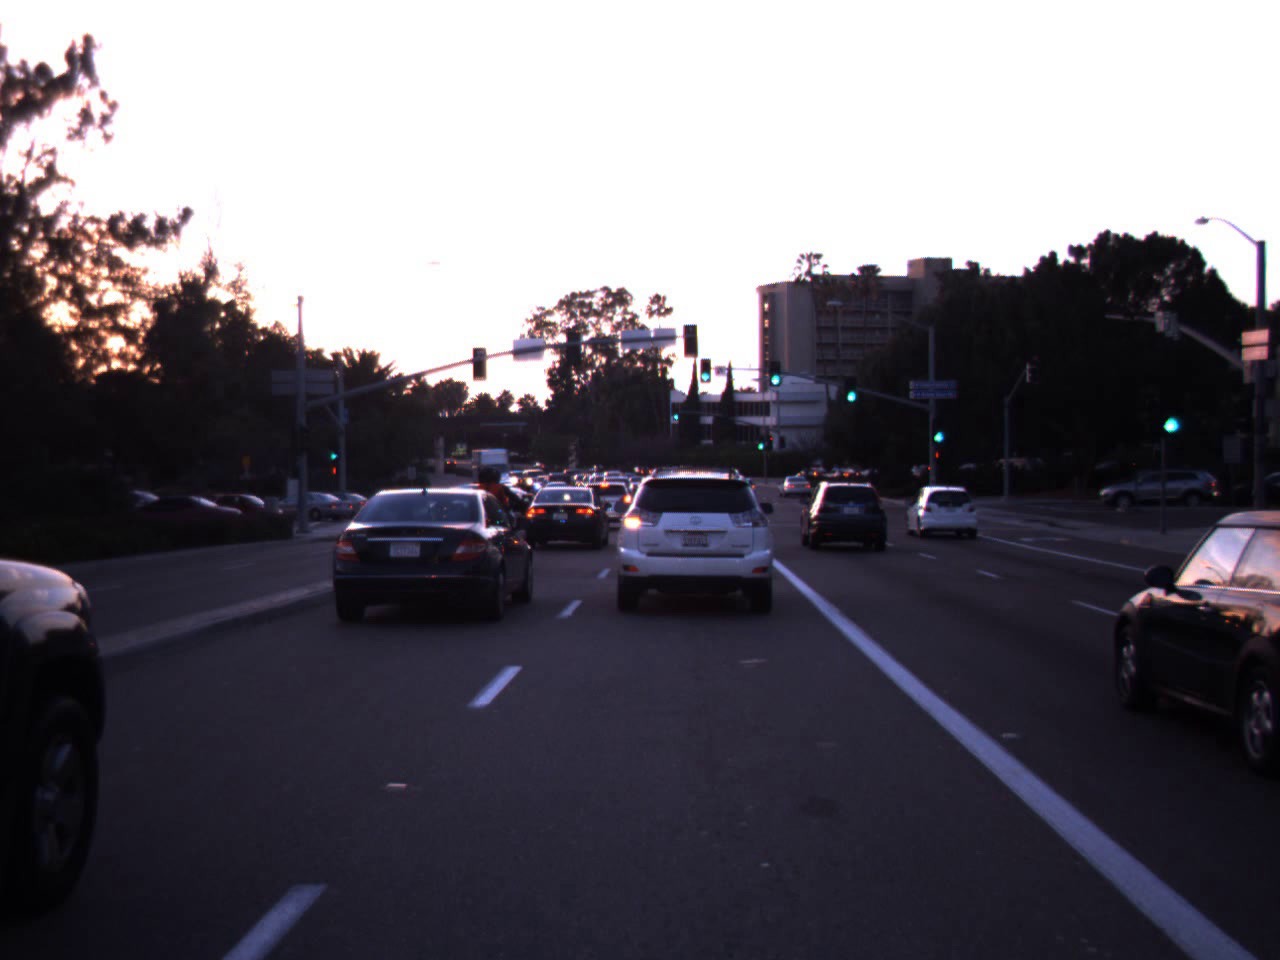go: (1150, 371, 1189, 436), (763, 340, 787, 390), (841, 360, 862, 405), (926, 405, 950, 445), (695, 349, 716, 384), (326, 436, 344, 461), (755, 426, 767, 451), (670, 401, 682, 421)
